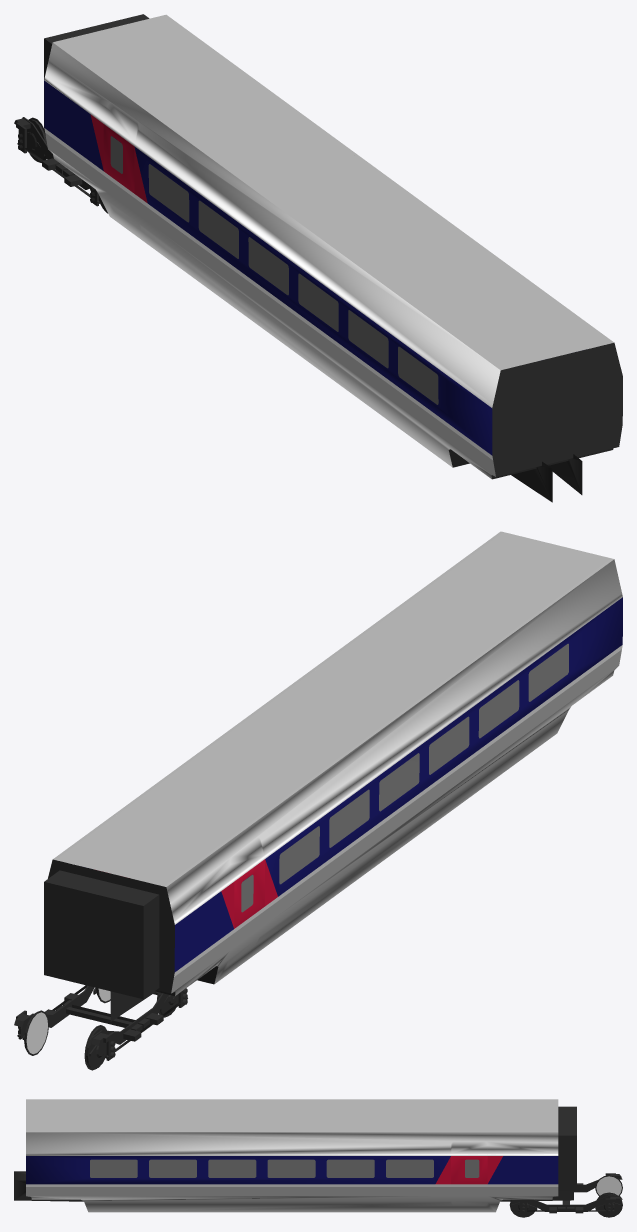
The model's file is TGVReseau_car7.gltf.
The picture shows the model from 3 angles, top to bottom: view 1: azimuth 30°, elevation 25°; view 2: azimuth 150°, elevation 25°; view 3: azimuth 270°, elevation 25°; orthographic projection. The views are drawn at different scales.
Parts seen in each view (by area): view 1: Group#1.003, Group#1.002, boogie.005; view 2: Group#1.003, Group#1.002, boogie.004, boogie.005; view 3: Group#1.002, Group#1.003, boogie.004, boogie.005.
Boxes of the visible parts, bbox=[...] form: Group#1.003: bbox=[44, 14, 557, 502]; Group#1.002: bbox=[44, 14, 622, 494]; boogie.005: bbox=[14, 117, 107, 213]; Group#1.003: bbox=[44, 545, 622, 1021]; Group#1.002: bbox=[48, 531, 557, 999]; boogie.004: bbox=[14, 985, 157, 1055]; boogie.005: bbox=[66, 988, 187, 1070]; Group#1.002: bbox=[14, 1106, 576, 1212]; Group#1.003: bbox=[14, 1099, 576, 1190]; boogie.004: bbox=[509, 1192, 622, 1217]; boogie.005: bbox=[562, 1173, 622, 1204].
Size of the model in its own units: 3.15 by 3.62 by 21.41.
